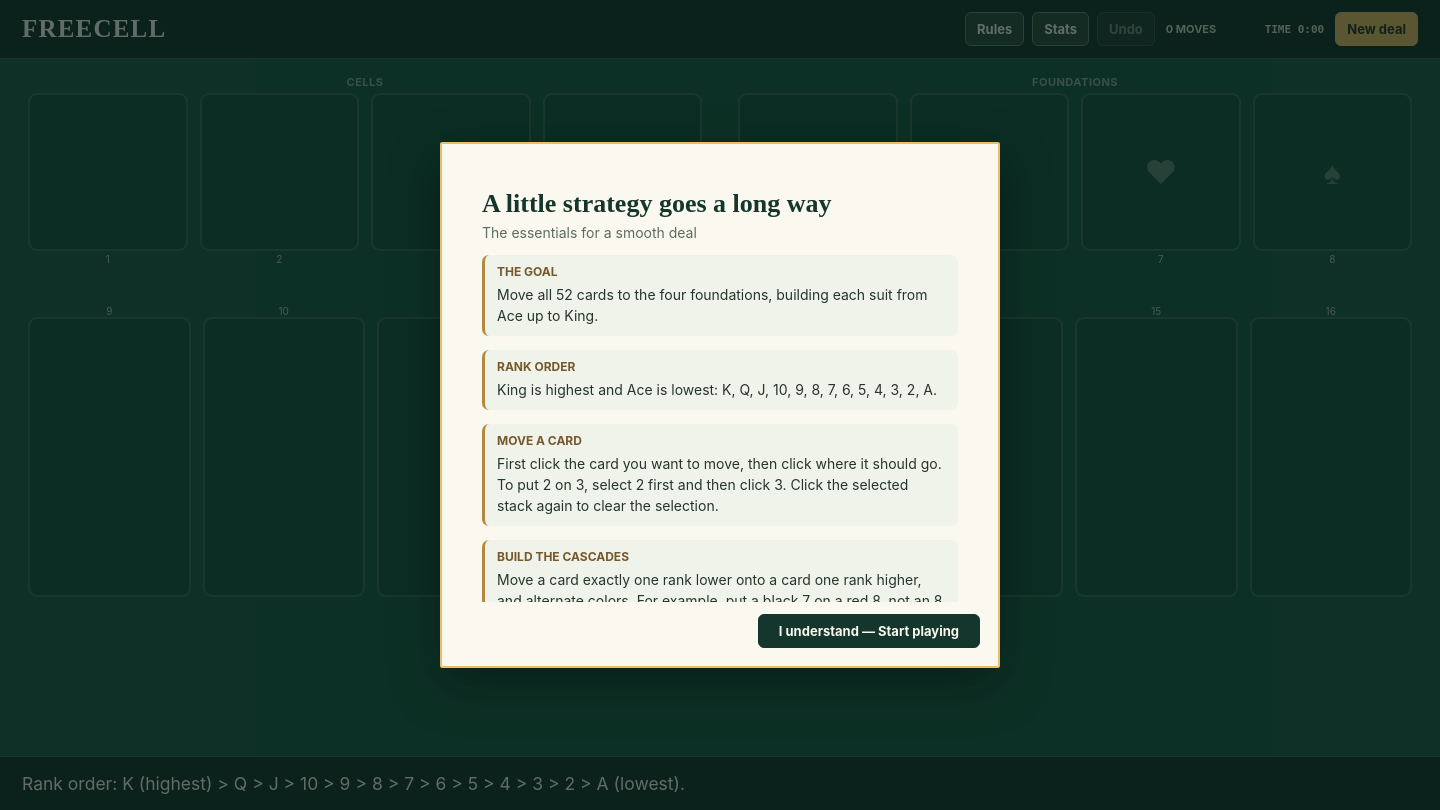
Scenario: shows the welcome dialog and starts play
Check: the heading "A little strategy goes a long way" is shown, box [482, 189, 832, 218]
Click the button "I understand — Start playing": click(869, 631) [758, 614, 980, 648]
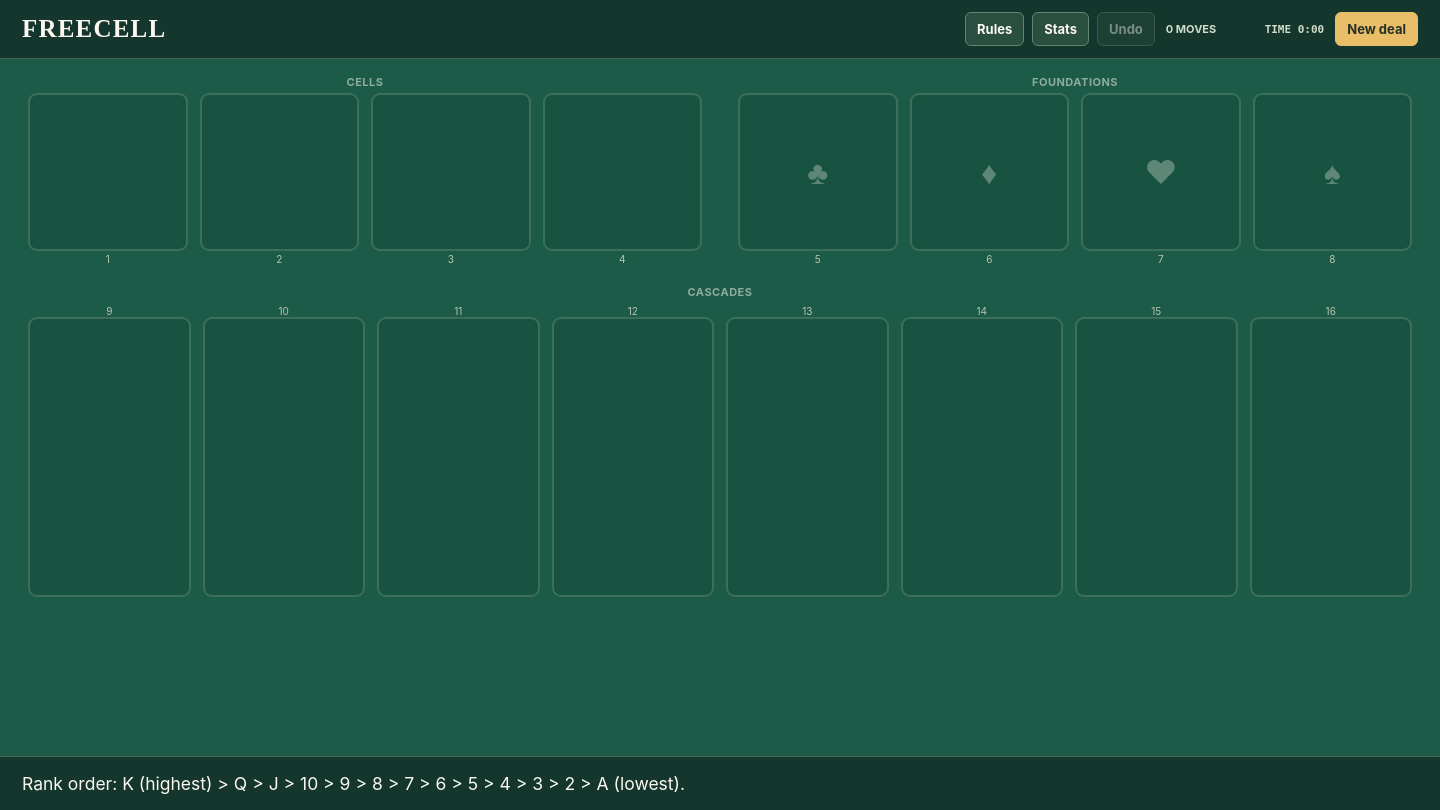
Check: the heading "A little strategy goes a long way" is gone
